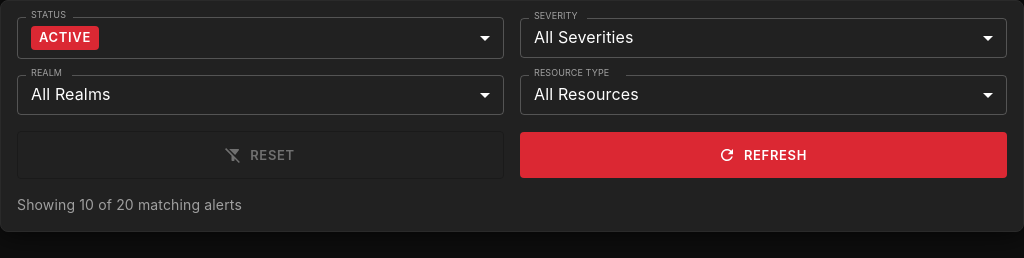
Scenario: AlertsFilters › should render unique resource types in dropdown
What coordinates should you click on to do the following:
click the dropdown named "resource type"
I would click on:
 (586, 94)
Its box is [534,84,639,104].
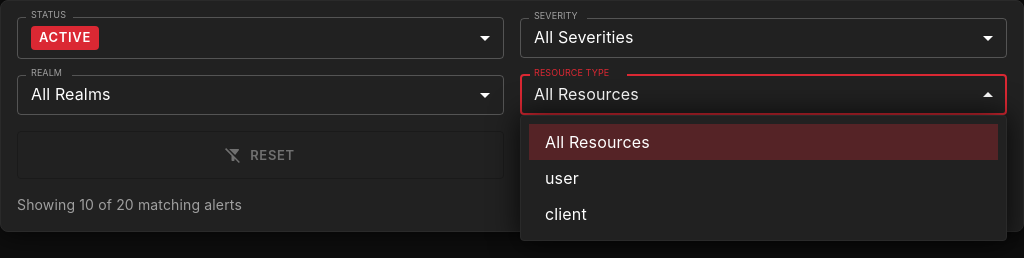
Now the option "user" is shown, box [545,168,579,188]
Now the option "client" is shown, box [545,204,587,224]
